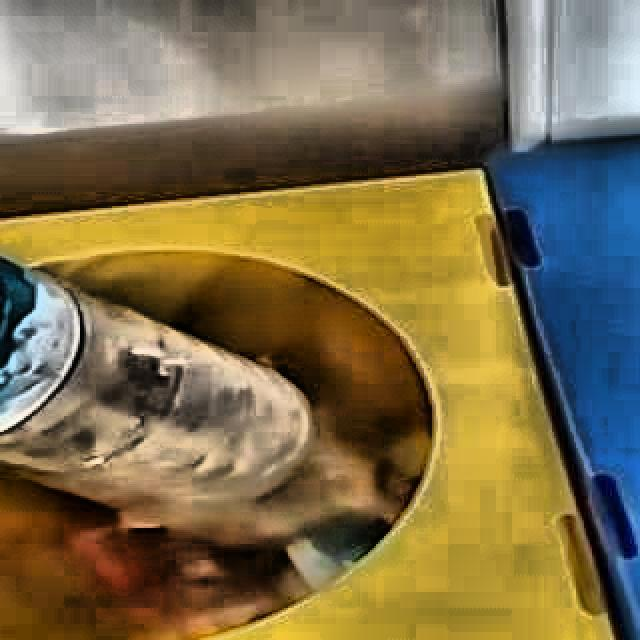plastic: (0, 257, 312, 516)
